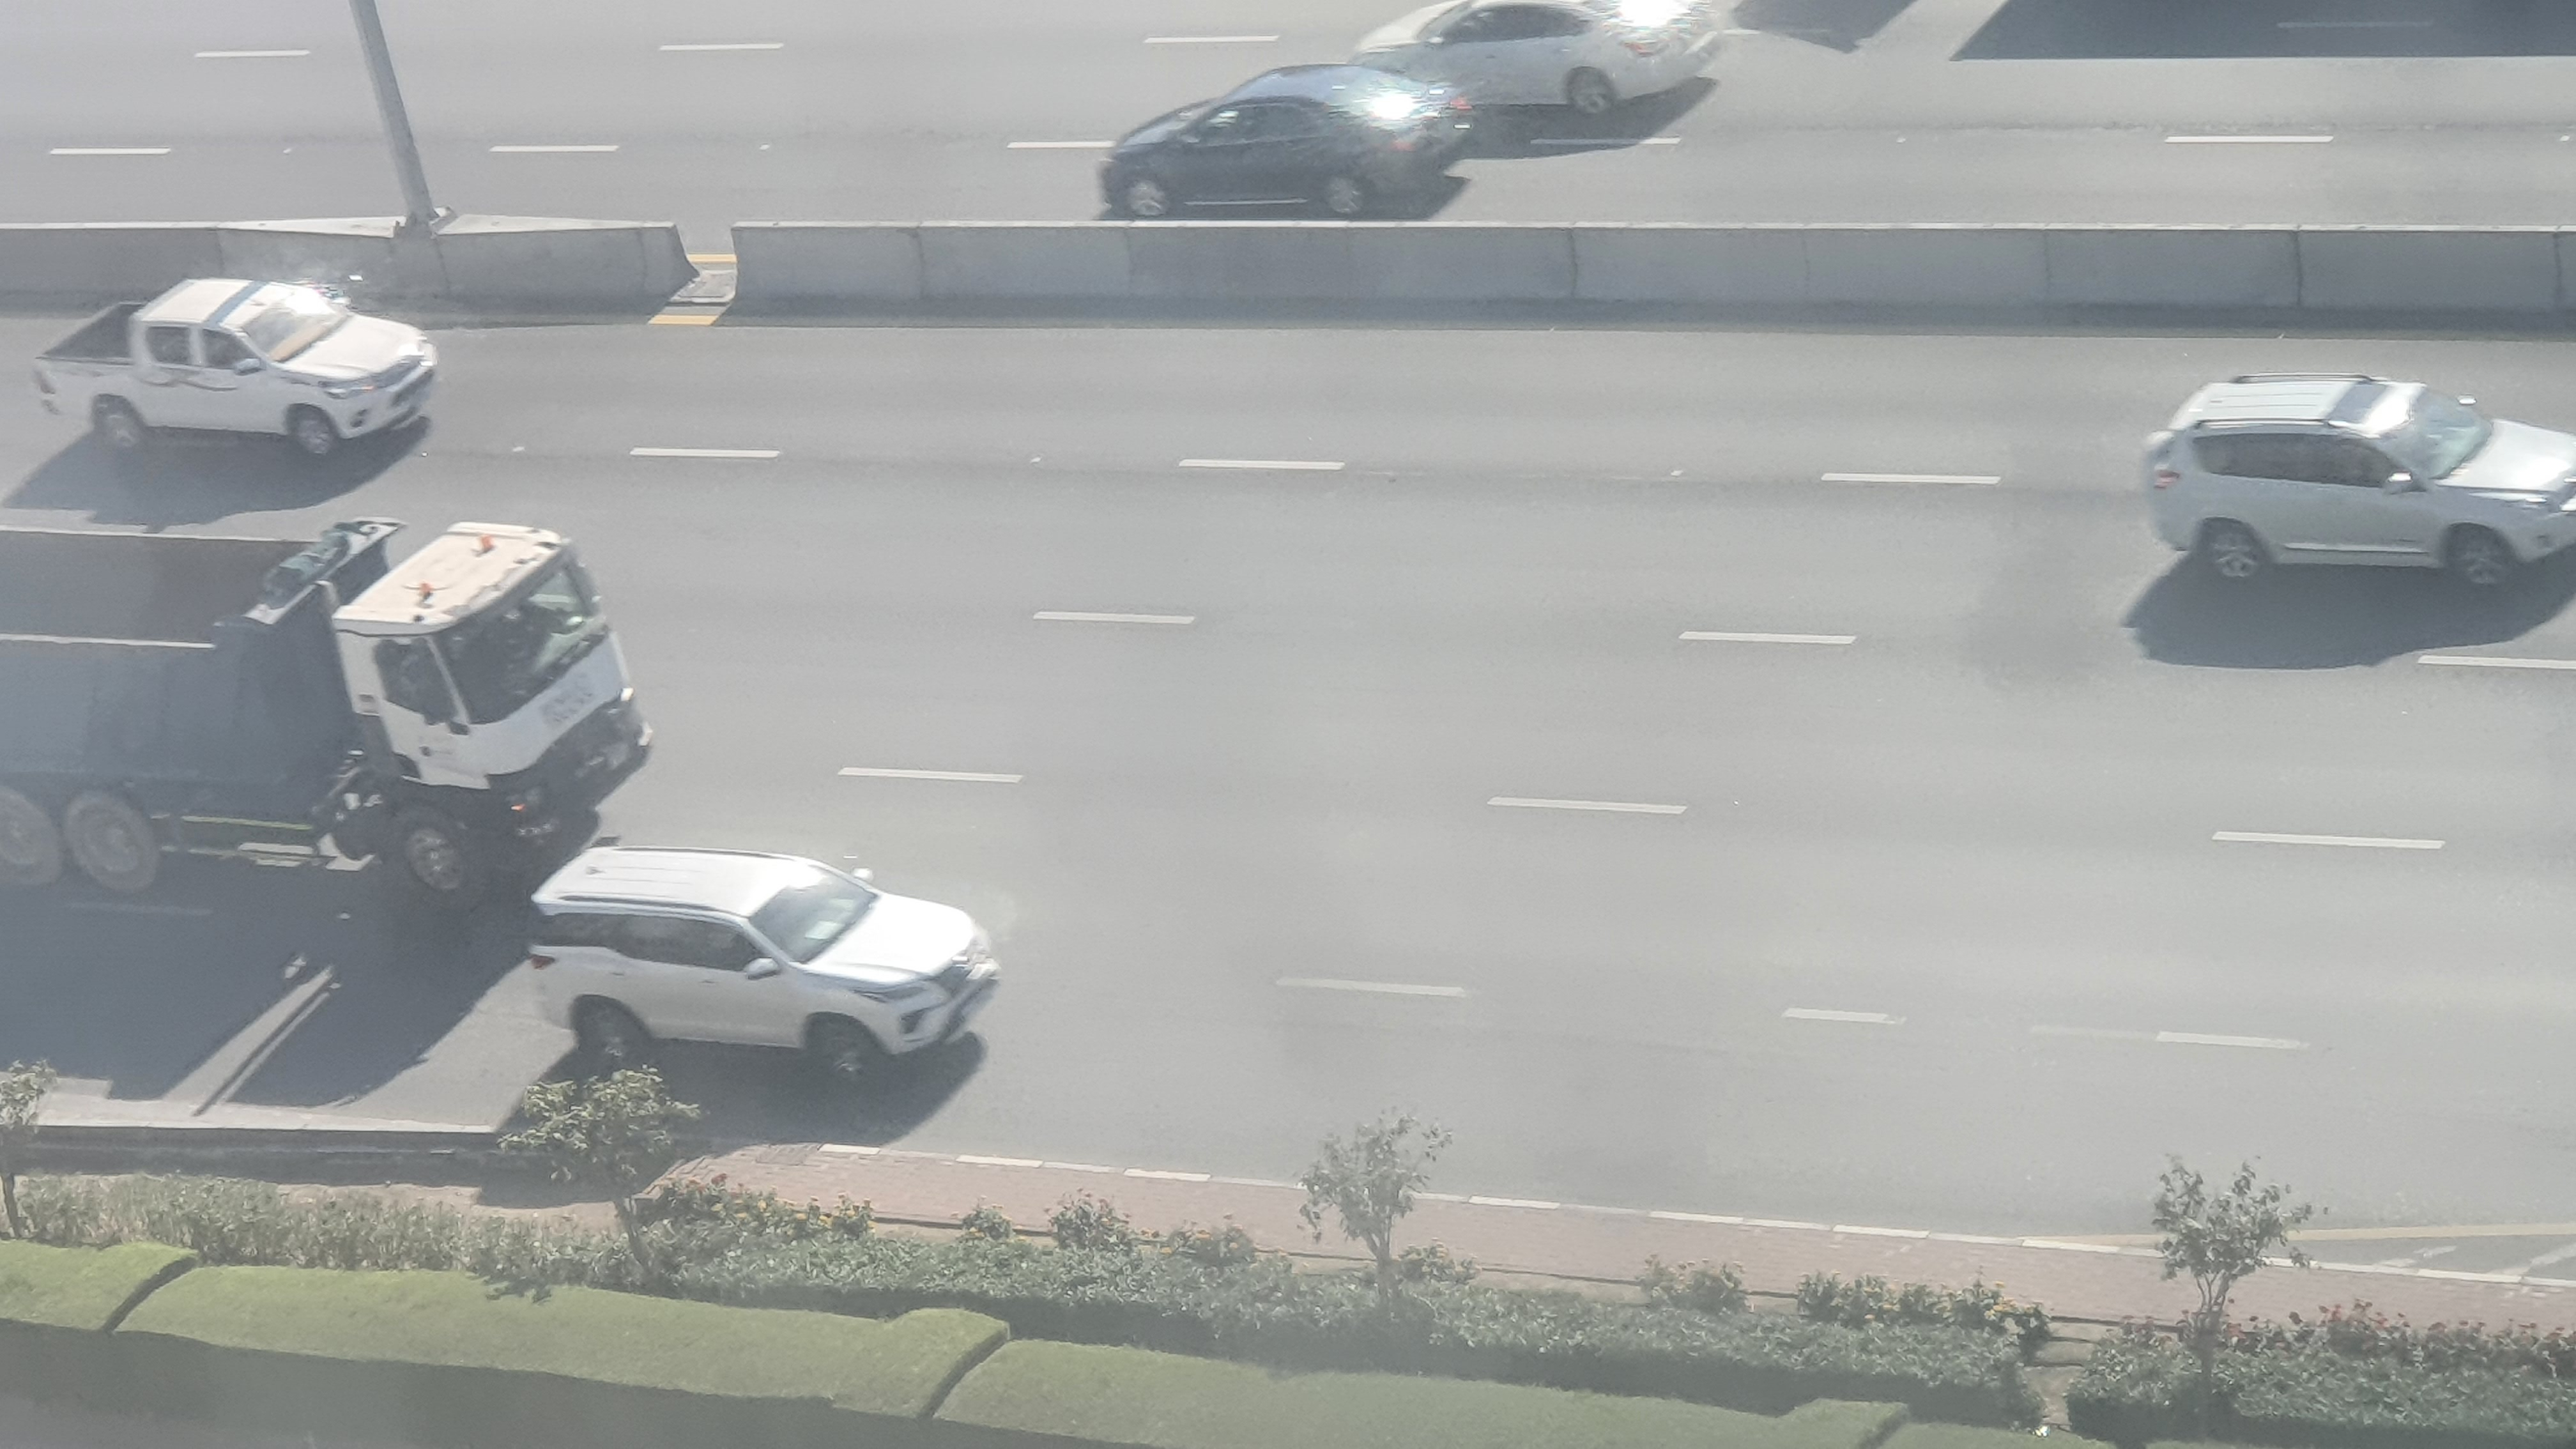NotSunroof: (518, 847, 1003, 1088)
Sunroof: (2146, 372, 2576, 598)
